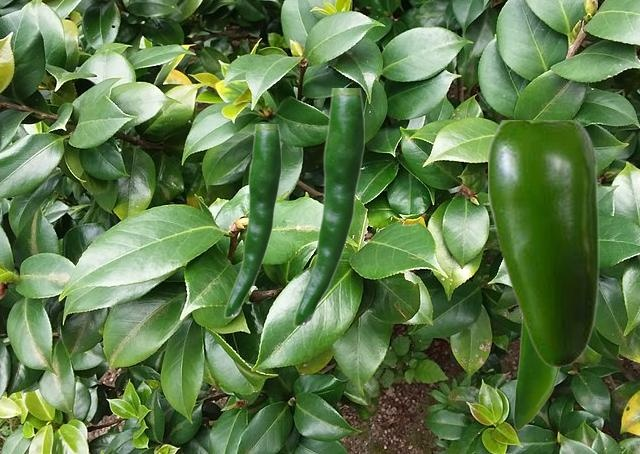green_chili: (488, 120, 598, 367), (292, 88, 363, 326), (223, 124, 280, 317), (513, 318, 560, 429)
